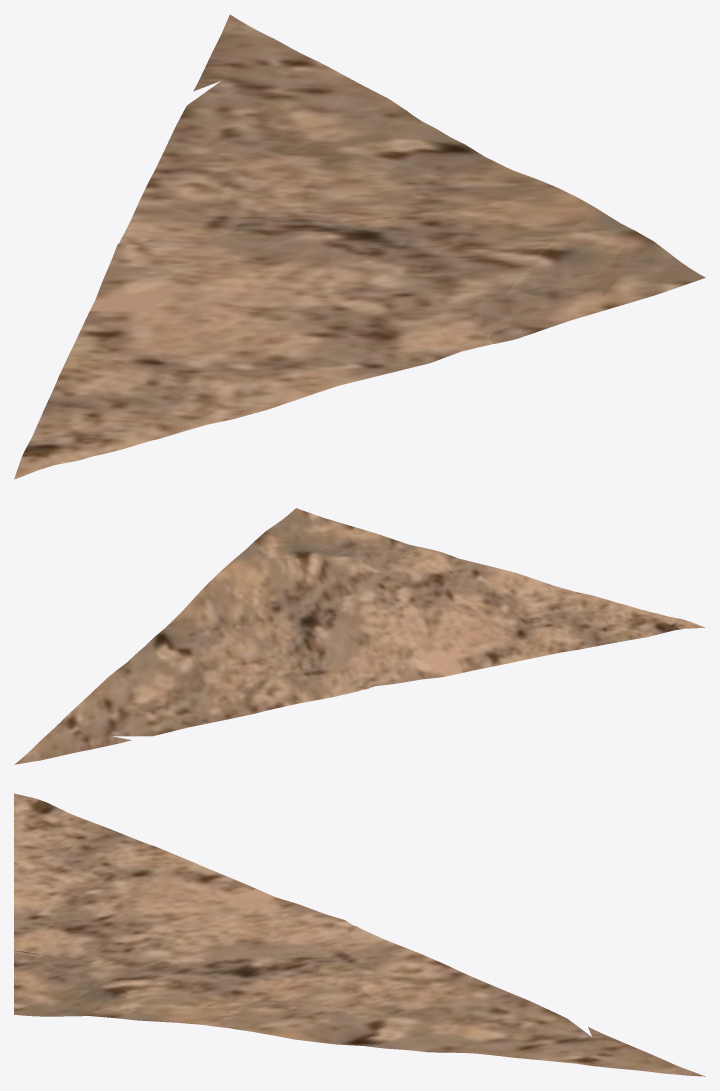
The picture shows the model from 3 angles, top to bottom: view 1: azimuth 30°, elevation 25°; view 2: azimuth 150°, elevation 25°; view 3: azimuth 270°, elevation 25°; orthographic projection. The views are drawn at different scales.
Bounding box in the file's own units: 5.81 × 0.6823 × 6.92.
1 material, 1 textured.
